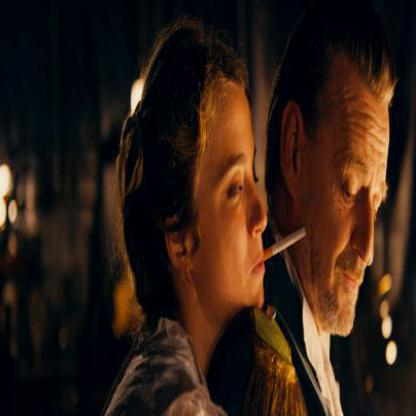cigarette: (261, 223, 308, 264)
person: (101, 23, 274, 416), (246, 6, 405, 415)
